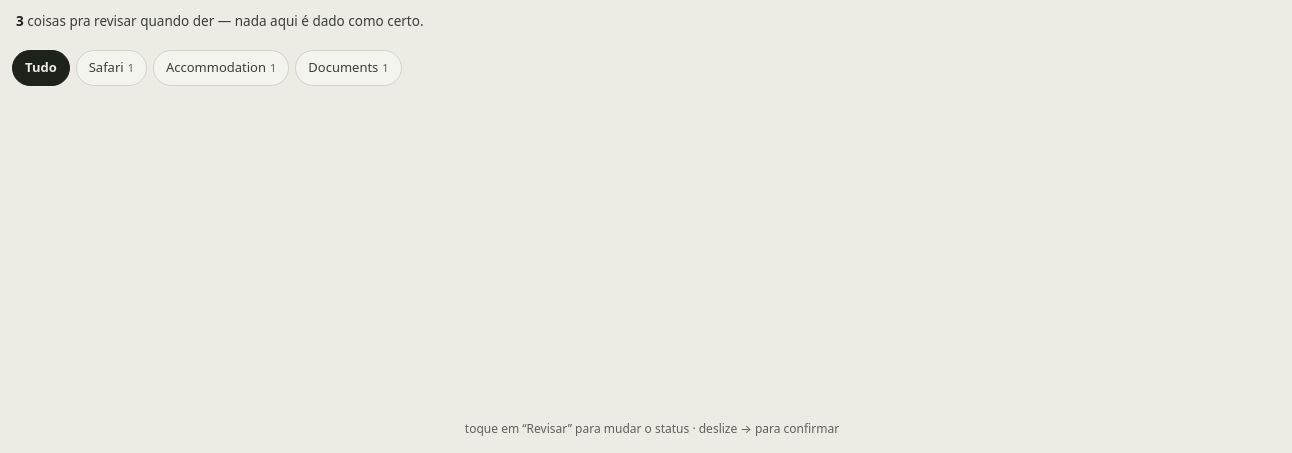
Test: Revisar view › filters by sub-area chip
Step 1. Click the button "Documents 1" → [348, 68], box [295,50,402,86]
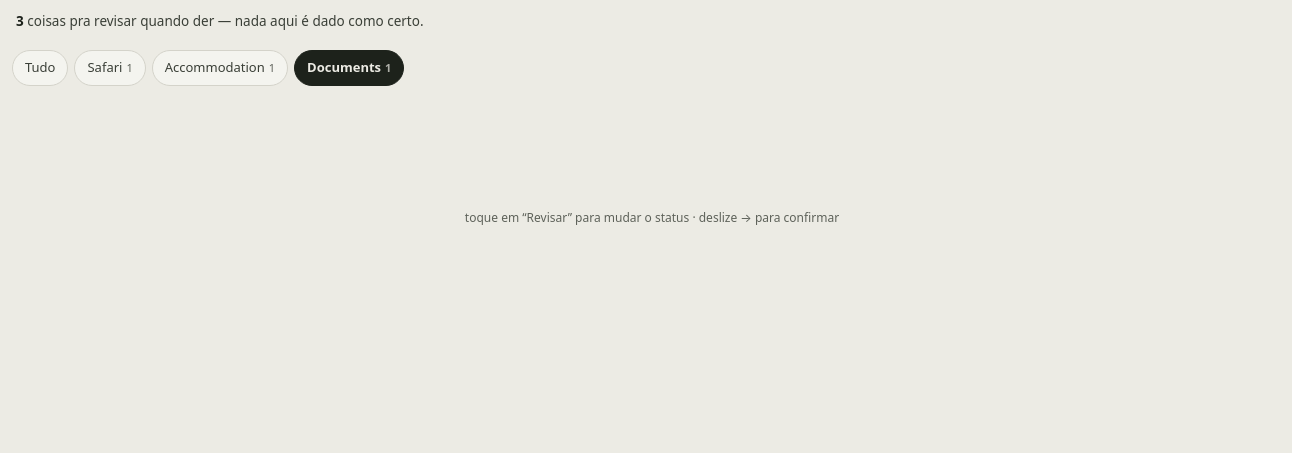
Expected: the text "Hospedagem Cape Town" is not shown
Step 2. Click the button "Tudo" → [40, 68], box [12,50,68,86]
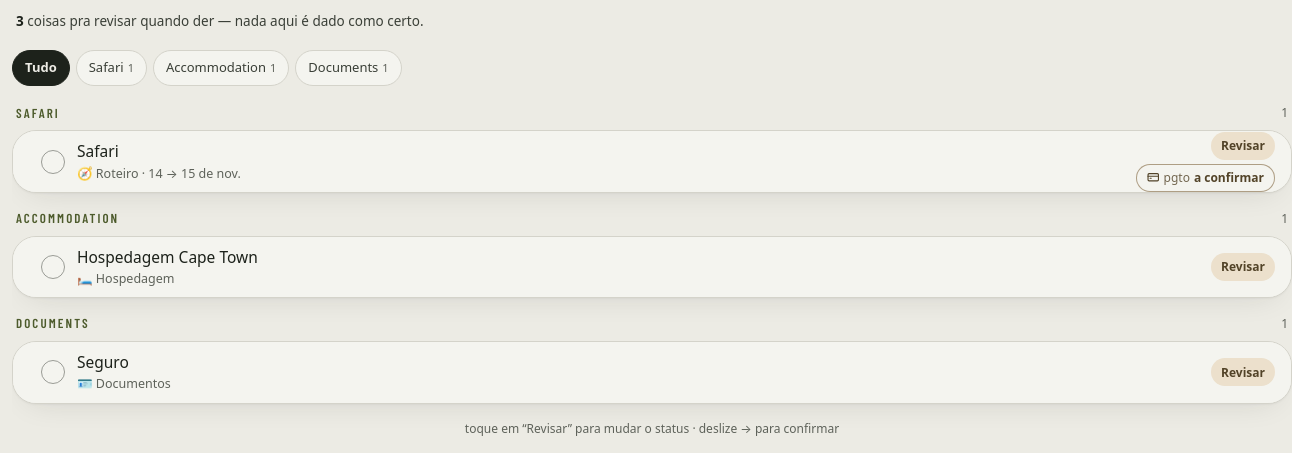
Expected: the text "Hospedagem Cape Town" is shown, [77,247,258,268]
